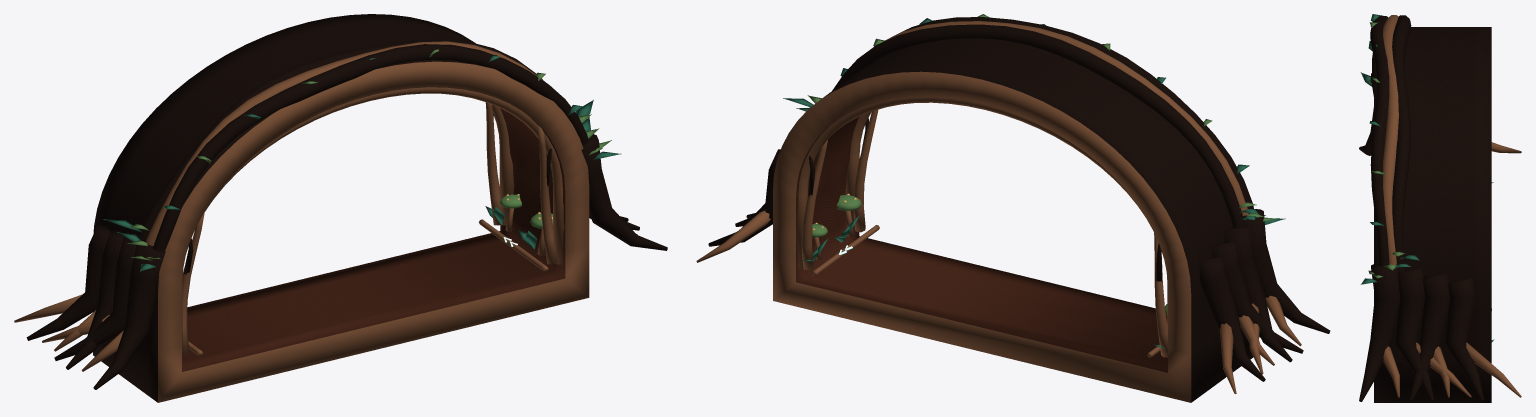
Rendered from portal_entry.glb.
3 renders of one model, left to right at view 1: azimuth 30°, elevation 25°; view 2: azimuth 150°, elevation 25°; view 3: azimuth 270°, elevation 25°, orthographic. The views are drawn at different scales.
Parts seen in each view (by area): view 1: TunnelGeometry; view 2: TunnelGeometry; view 3: TunnelGeometry.
Boxes of the visible parts, x1,y1,x2,y2 form: TunnelGeometry: (14,14,667,402); TunnelGeometry: (696,14,1330,402); TunnelGeometry: (1359,14,1521,402).
Bounding box in the file's own units: 20.35 × 9.87 × 5.53.
Materials: 7 (2 with a texture image).
